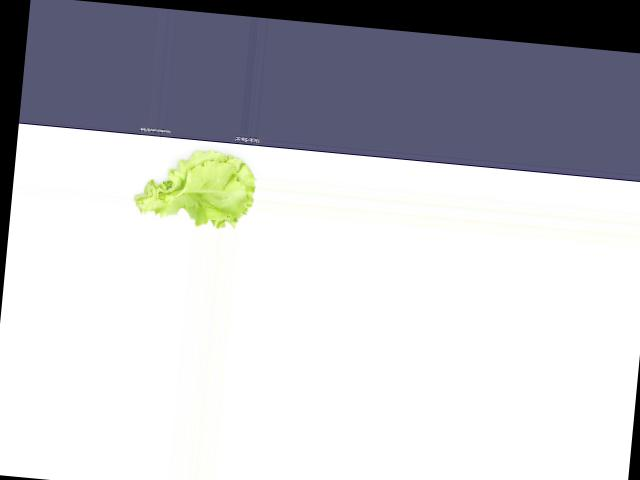lettuce: (134, 137, 258, 232)
